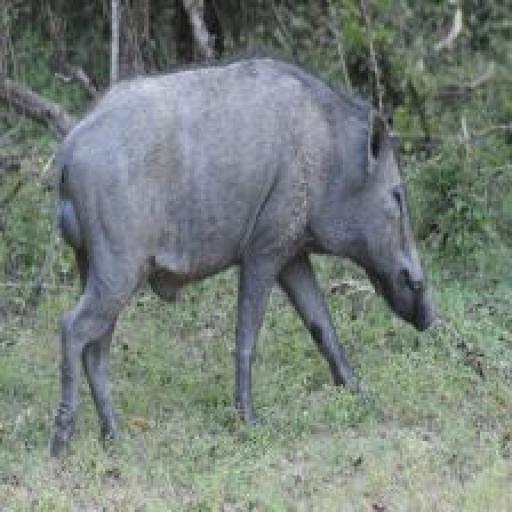Pig: (21, 52, 432, 460)
